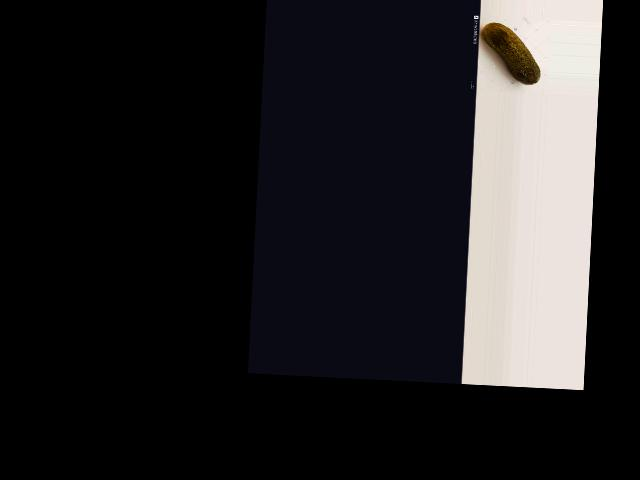cucumber: (479, 22, 542, 85)
